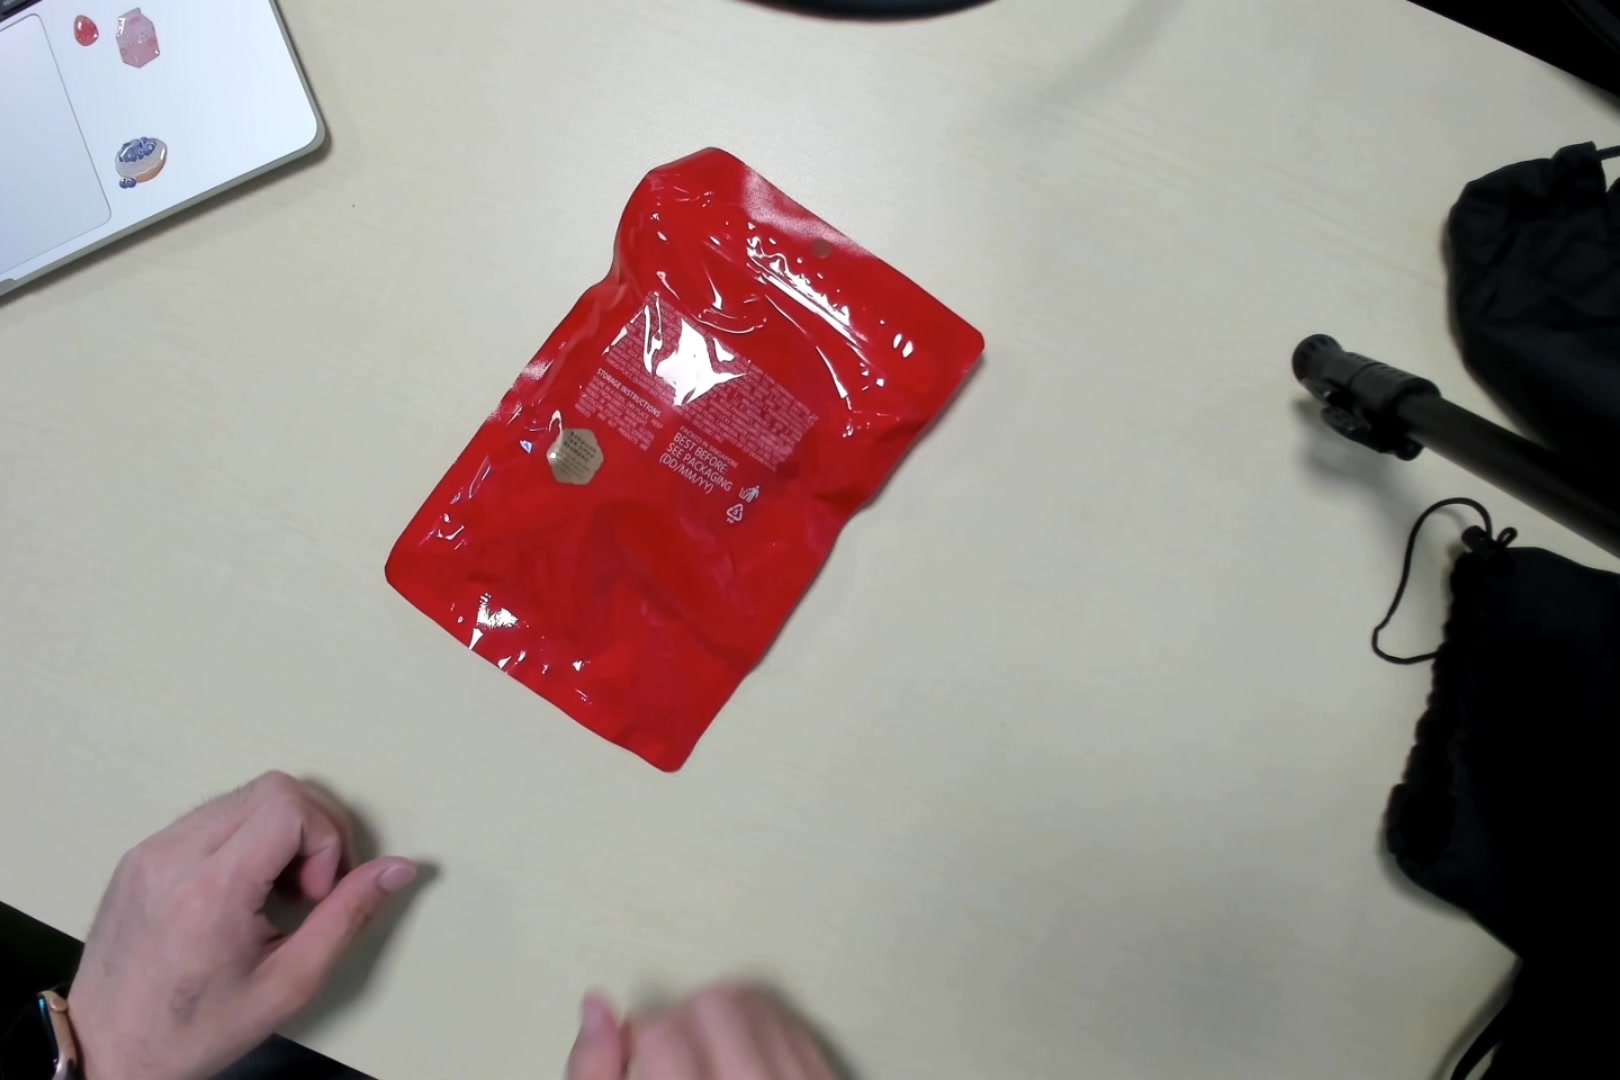DriedMeatSeafood_100-199g_NonHalal_NonHealthy: (416, 145, 969, 771)
